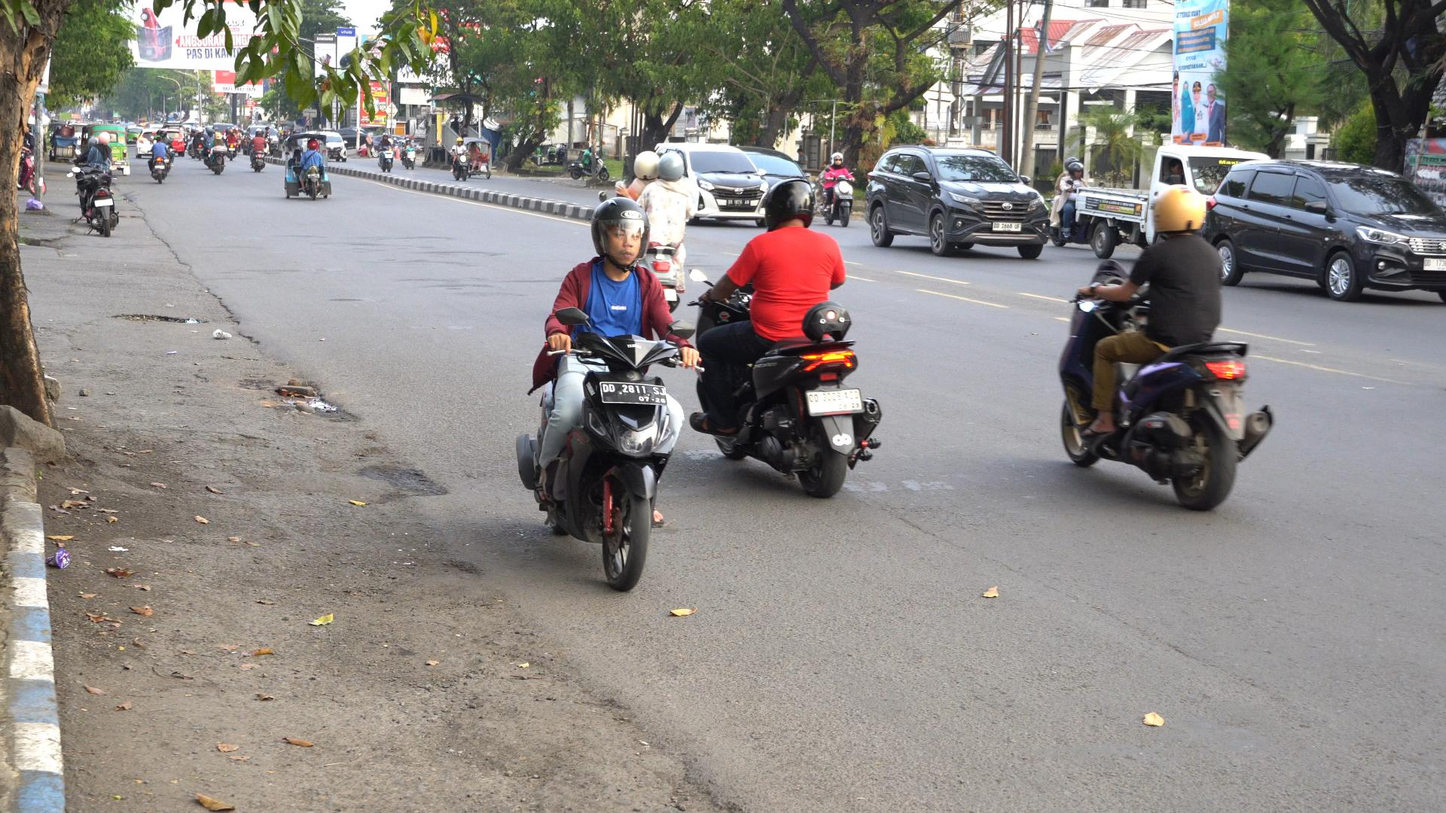number-plate: (597, 379, 666, 410)
